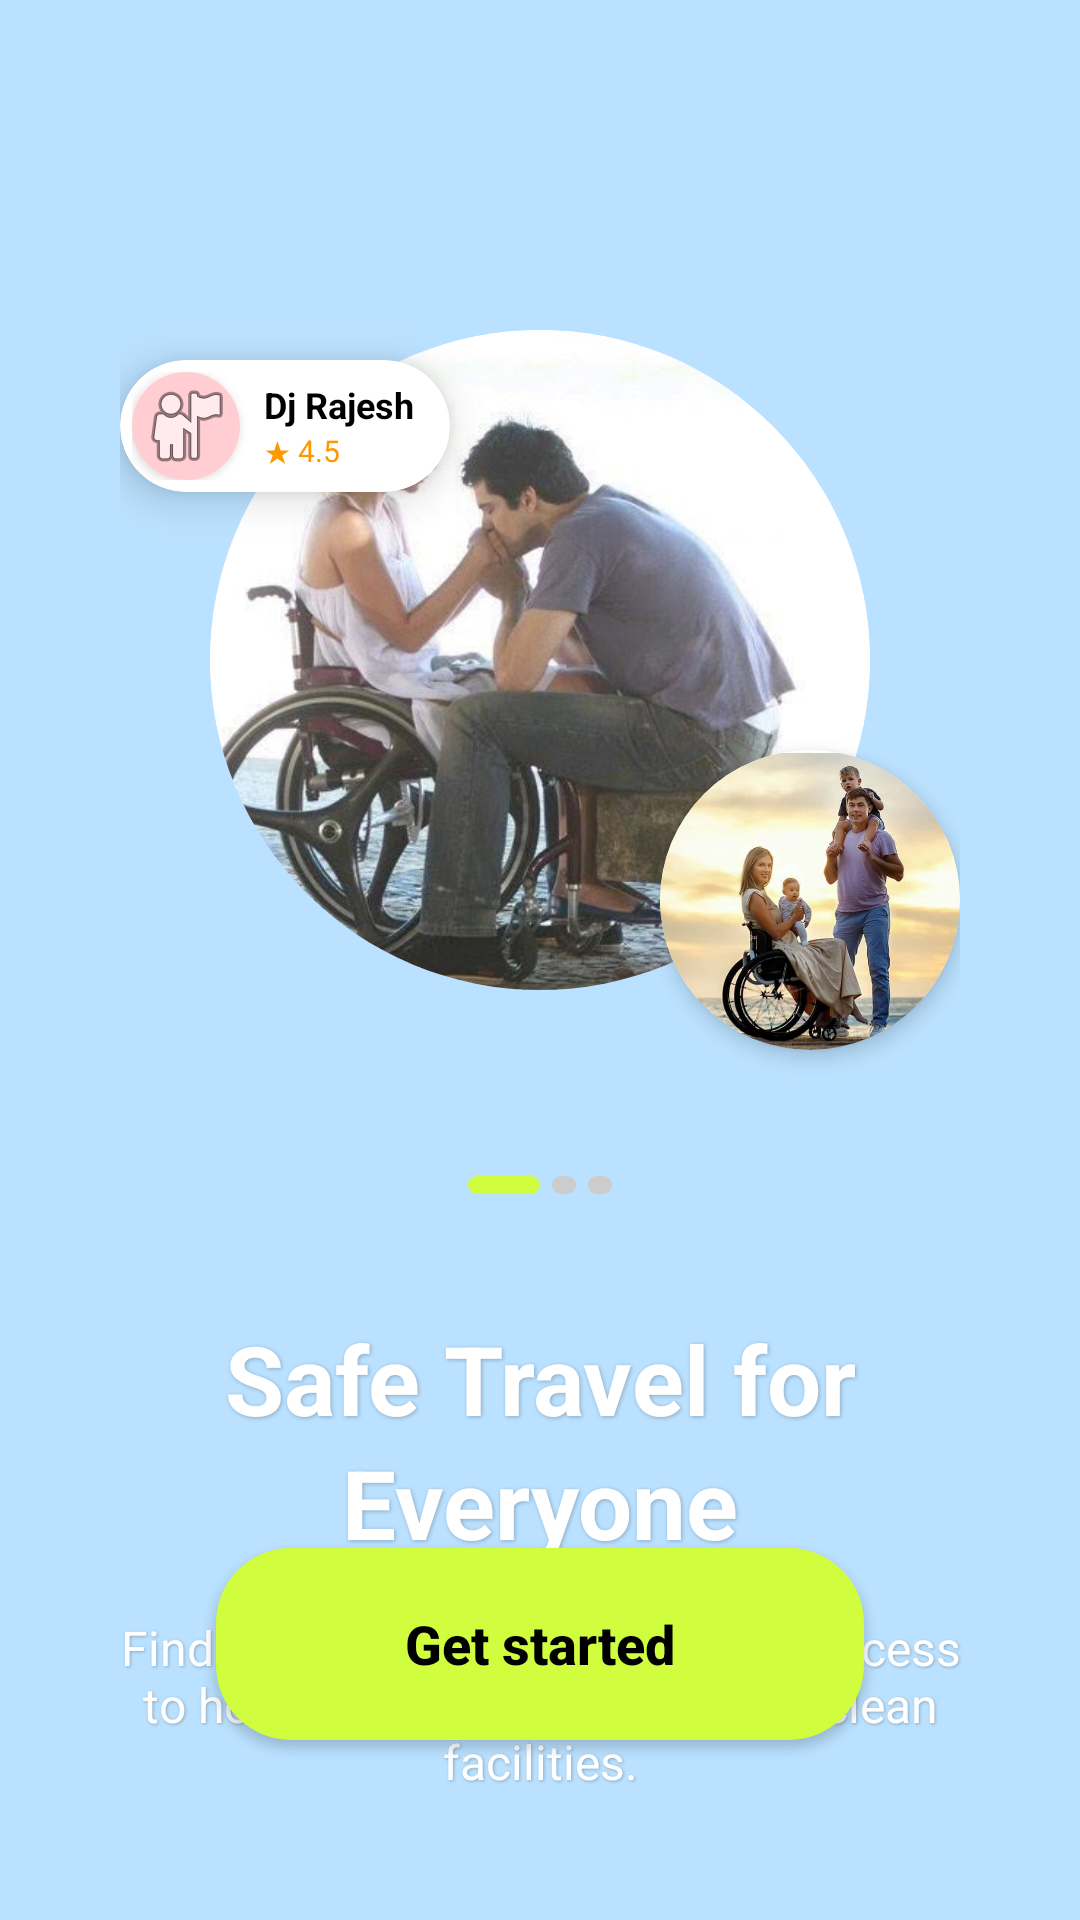

Icons on this 1080px×1920px Android screen, each with its box as detection(x1, y1, x2, y2):
myplaces: detection(132, 372, 240, 480)
